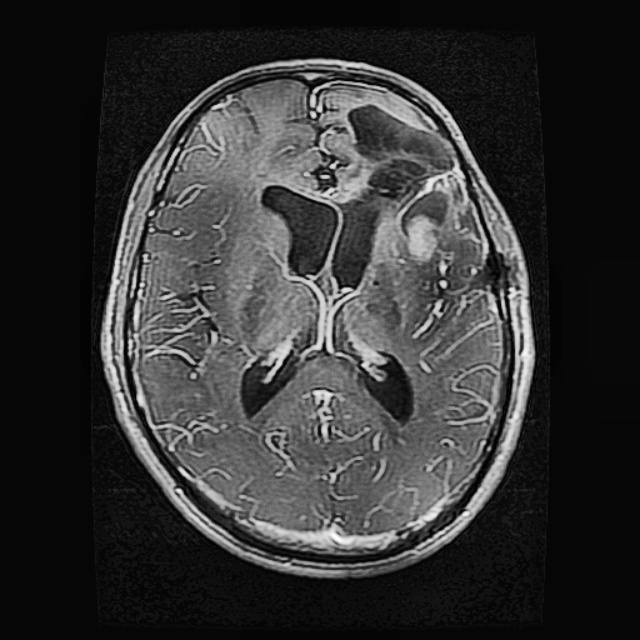Meningioma: (344, 100, 483, 289)
